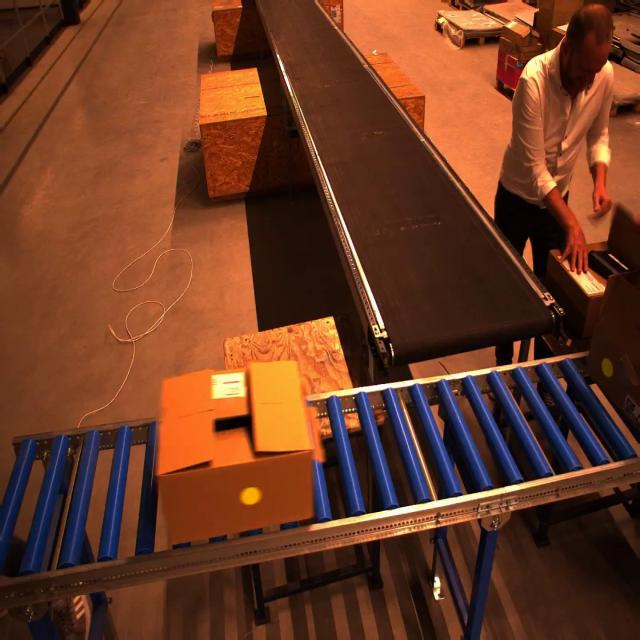box: (148, 364, 326, 545)
